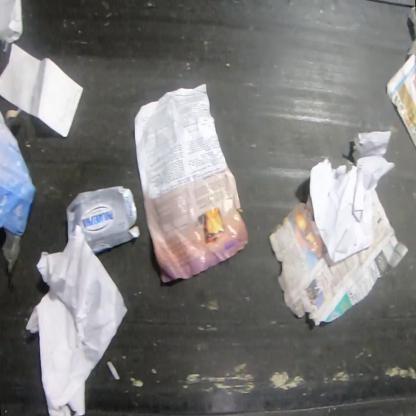cardboard: (66, 185, 141, 254)
soft_plastic: (0, 106, 38, 278)
